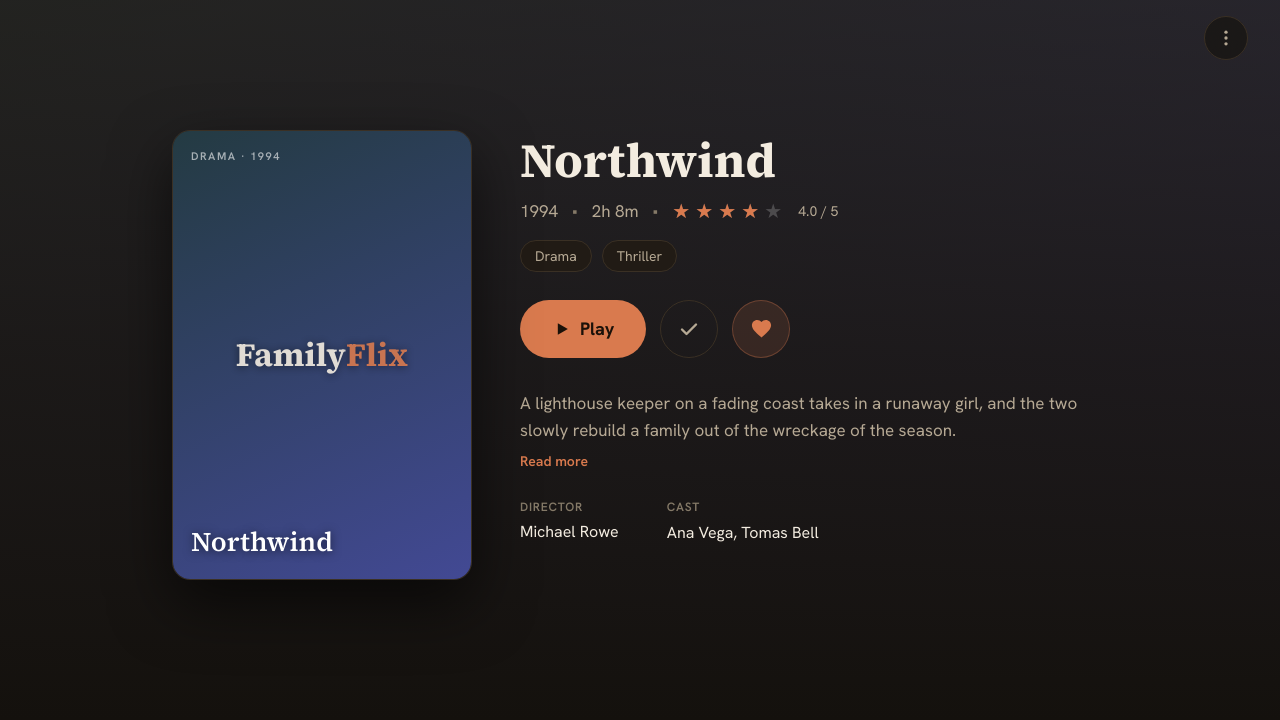
Test: MovieDetail — the two toggles › empties the heart again for a movie taken out of Favorites
The width and height of the screenshot is (1280, 720).
What coordinates should you click on to do the following:
click the button named "in favorites, click to remove"
I would click on:
 (761, 329)
Its box is [732,300,790,358].
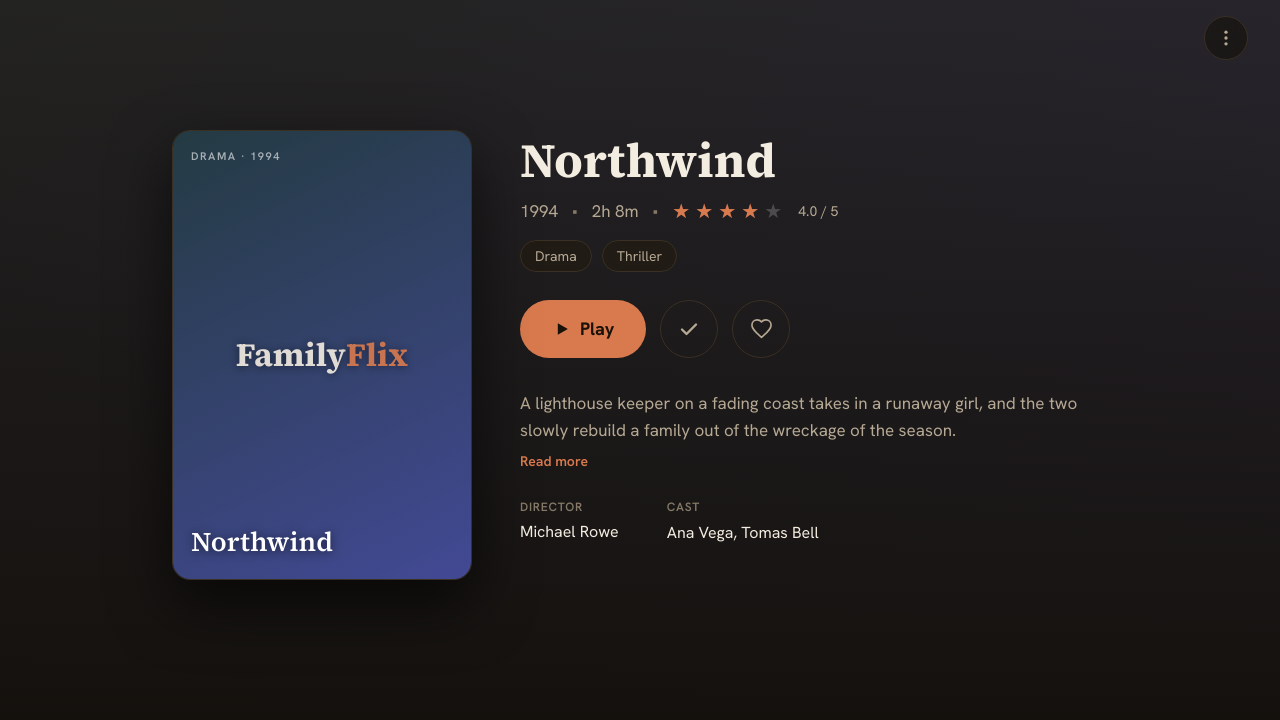
Result: the button named "add to favorites" is shown at [732,300,790,358]
